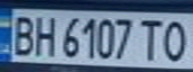0: (97, 15, 118, 60)
1: (78, 15, 96, 58)
6: (60, 14, 81, 58)
7: (112, 15, 139, 60)
B: (6, 12, 39, 56)
H: (30, 14, 57, 57)
O: (160, 17, 190, 63)
T: (136, 16, 166, 62)
